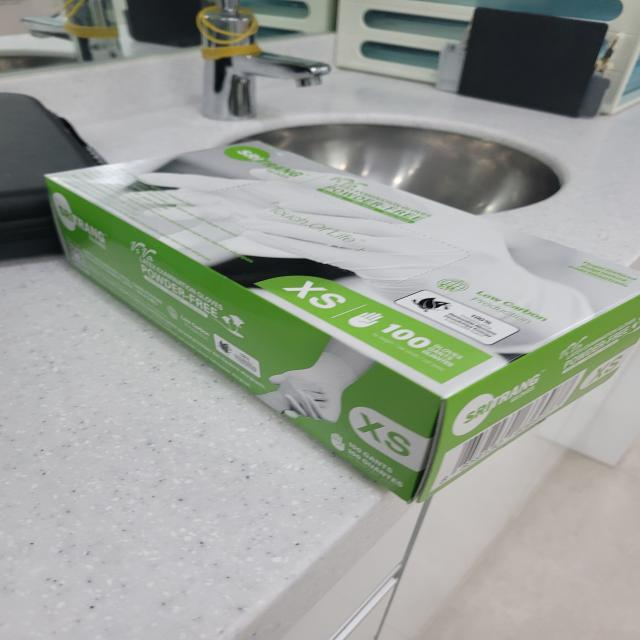glove: (20, 137, 640, 517)
